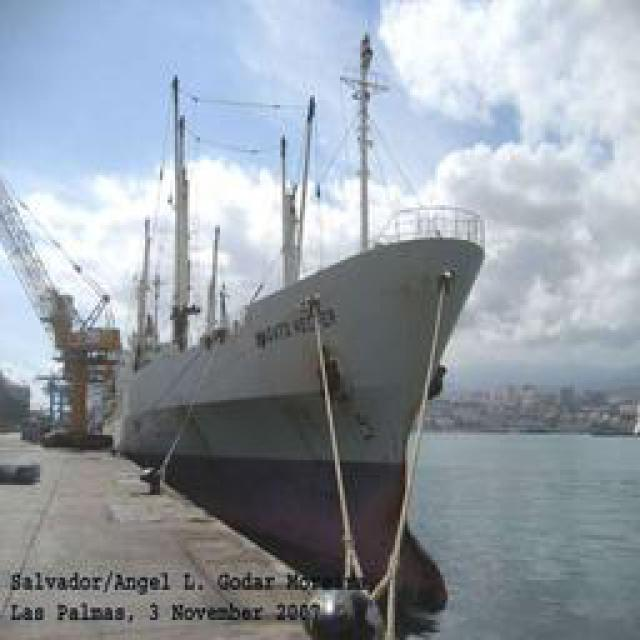Ship: (118, 184, 486, 619)
